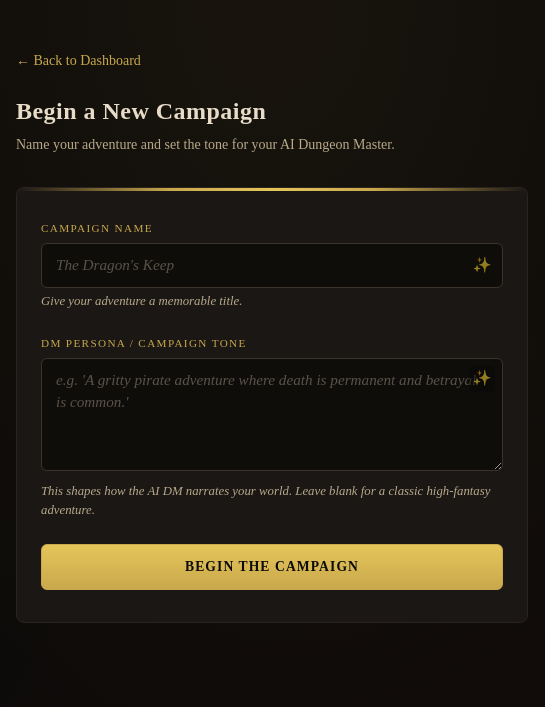
CreateGameForm › error handling › shows server error message in form-error
In the field with test id "game-name-input": [272, 265] box [41, 243, 503, 288], type "Test"
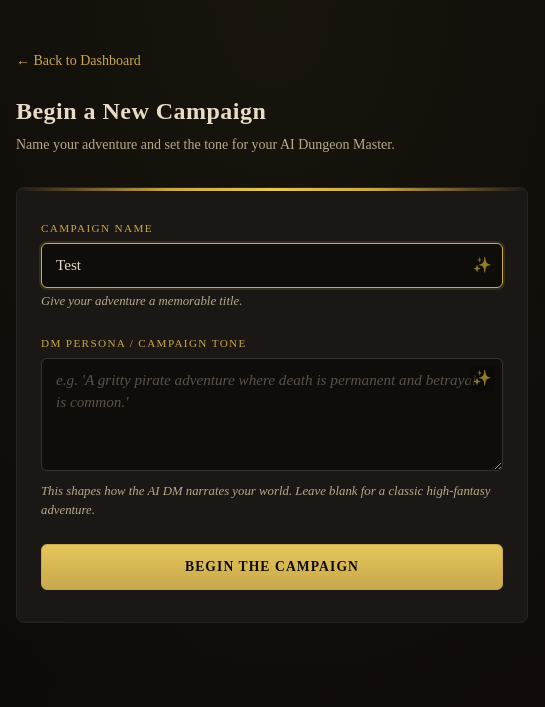
Click the button with test id "submit-button": [272, 567] box [41, 544, 503, 590]
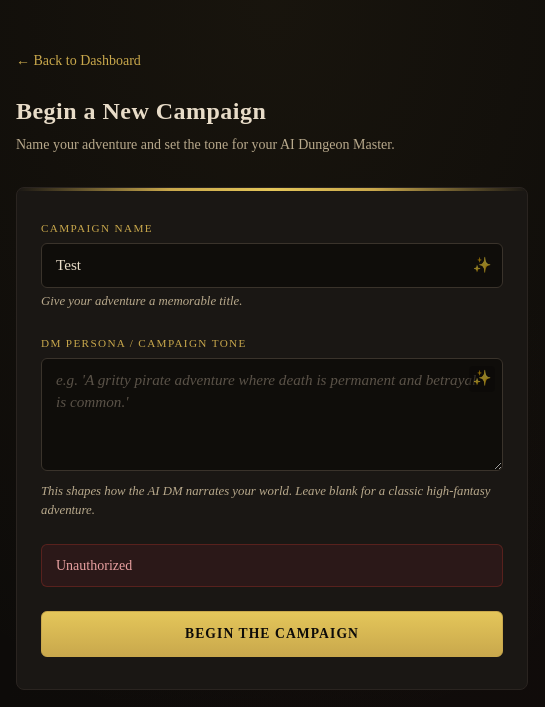
Expected: the text with test id "form-error" reads "Unauthorized", [56, 558, 132, 573]
